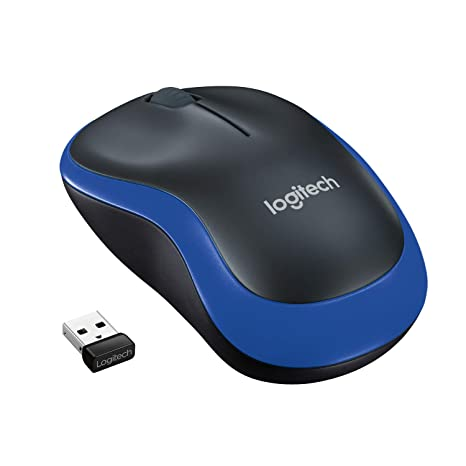logitech-mouse-m185: (47, 84, 427, 387)
